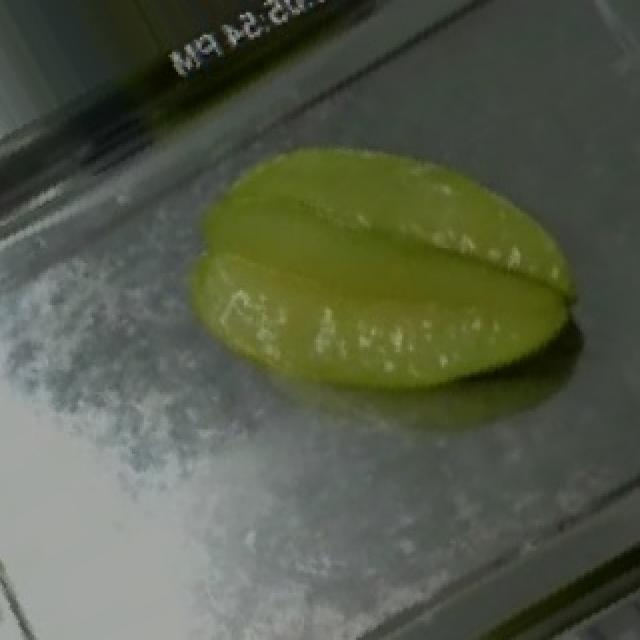fruit: (150, 37, 640, 504)
